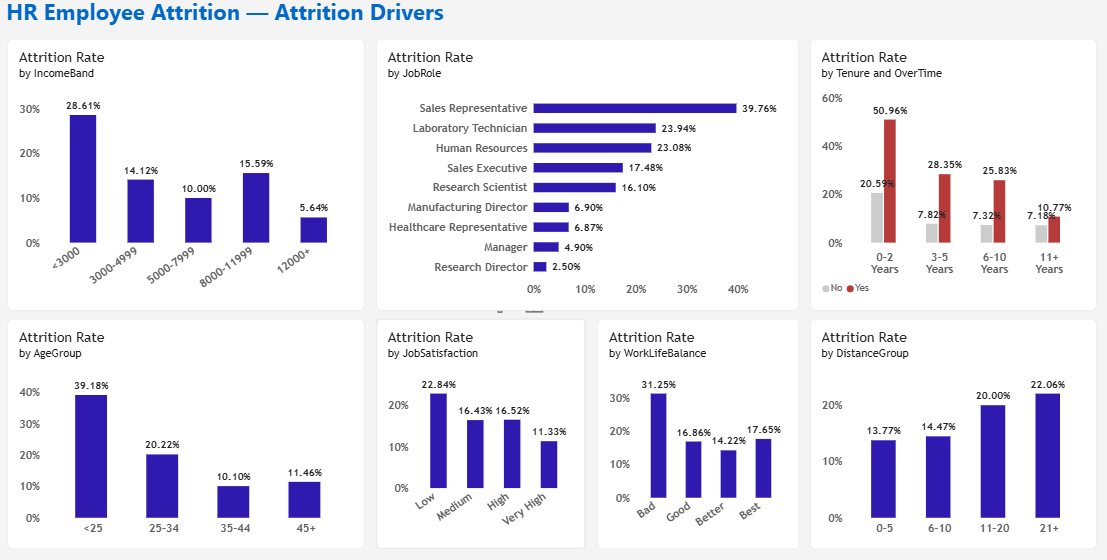

The dashboard page shown, as its layout file describes it:
{"tool":"powerbi","page":{"name":"Attrition Drivers","canvas":[1920,1080],"ordinal":1},"visuals":[{"type":"clusteredColumnChart","title":"Attrition Rate ","fields":{"Category":["Employee Data.IncomeBandNew"],"Y":["Employee Data.Attrition Rate"]},"box":[10,70.1,516.7,393.3],"z":0},{"type":"clusteredColumnChart","title":"Attrition Rate","fields":{"Category":["Employee Data.AgeGroupNew"],"Y":["Employee Data.Attrition Rate"]},"box":[10,475.1,516.7,333.3],"z":1000},{"type":"clusteredColumnChart","title":"Attrition Rate","fields":{"Category":["Employee Data.DistanceGroupNew"],"Y":["Employee Data.Attrition Rate"]},"box":[1173.3,475.1,415,333.3],"z":2000},{"type":"clusteredColumnChart","title":"Attrition Rate ","fields":{"Category":["Employee Data.JobSatisfactionNew"],"Y":["Employee Data.Attrition Rate"]},"box":[543.9,475.1,303.3,333.3],"z":3000},{"type":"clusteredColumnChart","title":"Attrition Rate","fields":{"Category":["Employee Data.WorkLifeBalanceNew"],"Y":["Employee Data.Attrition Rate"]},"box":[864.4,475.1,291.7,333.3],"z":4000},{"type":"clusteredBarChart","fields":{"Category":["Employee Data.JobRole"],"Y":["Employee Data.Attrition Rate"]},"box":[544.2,70.1,611.7,393.3],"z":5000},{"type":"clusteredColumnChart","title":"Attrition Rate","fields":{"Category":["Employee Data.TenureGroupNew"],"Series":["Employee Data.OverTime"],"Y":["Employee Data.Attrition Rate"]},"box":[1173.3,70.1,415,393.3],"z":6000},{"type":"textbox","box":[9.9,8.5,684.5,62],"z":7000}]}

Visuals, with their boxes on the page's 1920x1080 design canvas (x1, y1, x2, y2). These are canvas units, not pixel positions in the 1107x560 screenshot, which may show the page scaled, cropped or inside an application window:
"Attrition Rate " clusteredColumnChart: 10:70:527:463
"Attrition Rate" clusteredColumnChart: 10:475:527:808
"Attrition Rate" clusteredColumnChart: 1173:475:1588:808
"Attrition Rate " clusteredColumnChart: 544:475:847:808
"Attrition Rate" clusteredColumnChart: 864:475:1156:808
clusteredBarChart - Employee Data.JobRole x Employee Data.Attrition Rate: 544:70:1156:463
"Attrition Rate" clusteredColumnChart: 1173:70:1588:463
textbox: 10:8:694:70
